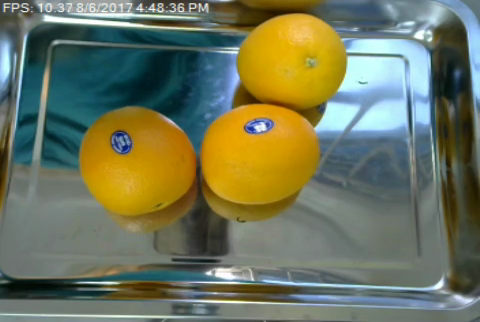Orange: (79, 103, 194, 215), (198, 104, 321, 204), (237, 12, 348, 109)
